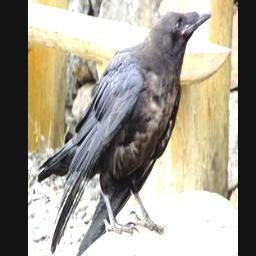Crow: (36, 7, 213, 256)
